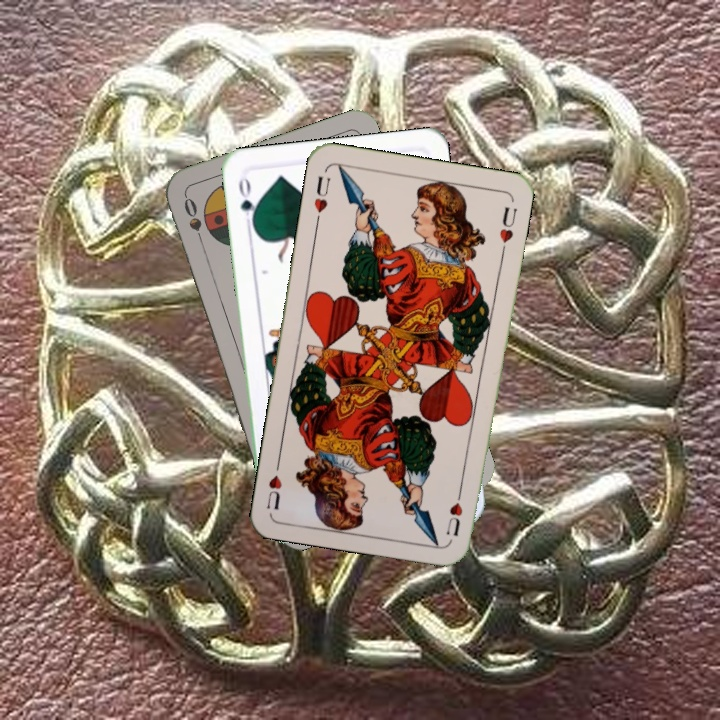GO: (234, 173, 260, 232)
HU: (442, 483, 465, 539), (310, 172, 333, 226)
SO: (180, 193, 208, 250)
